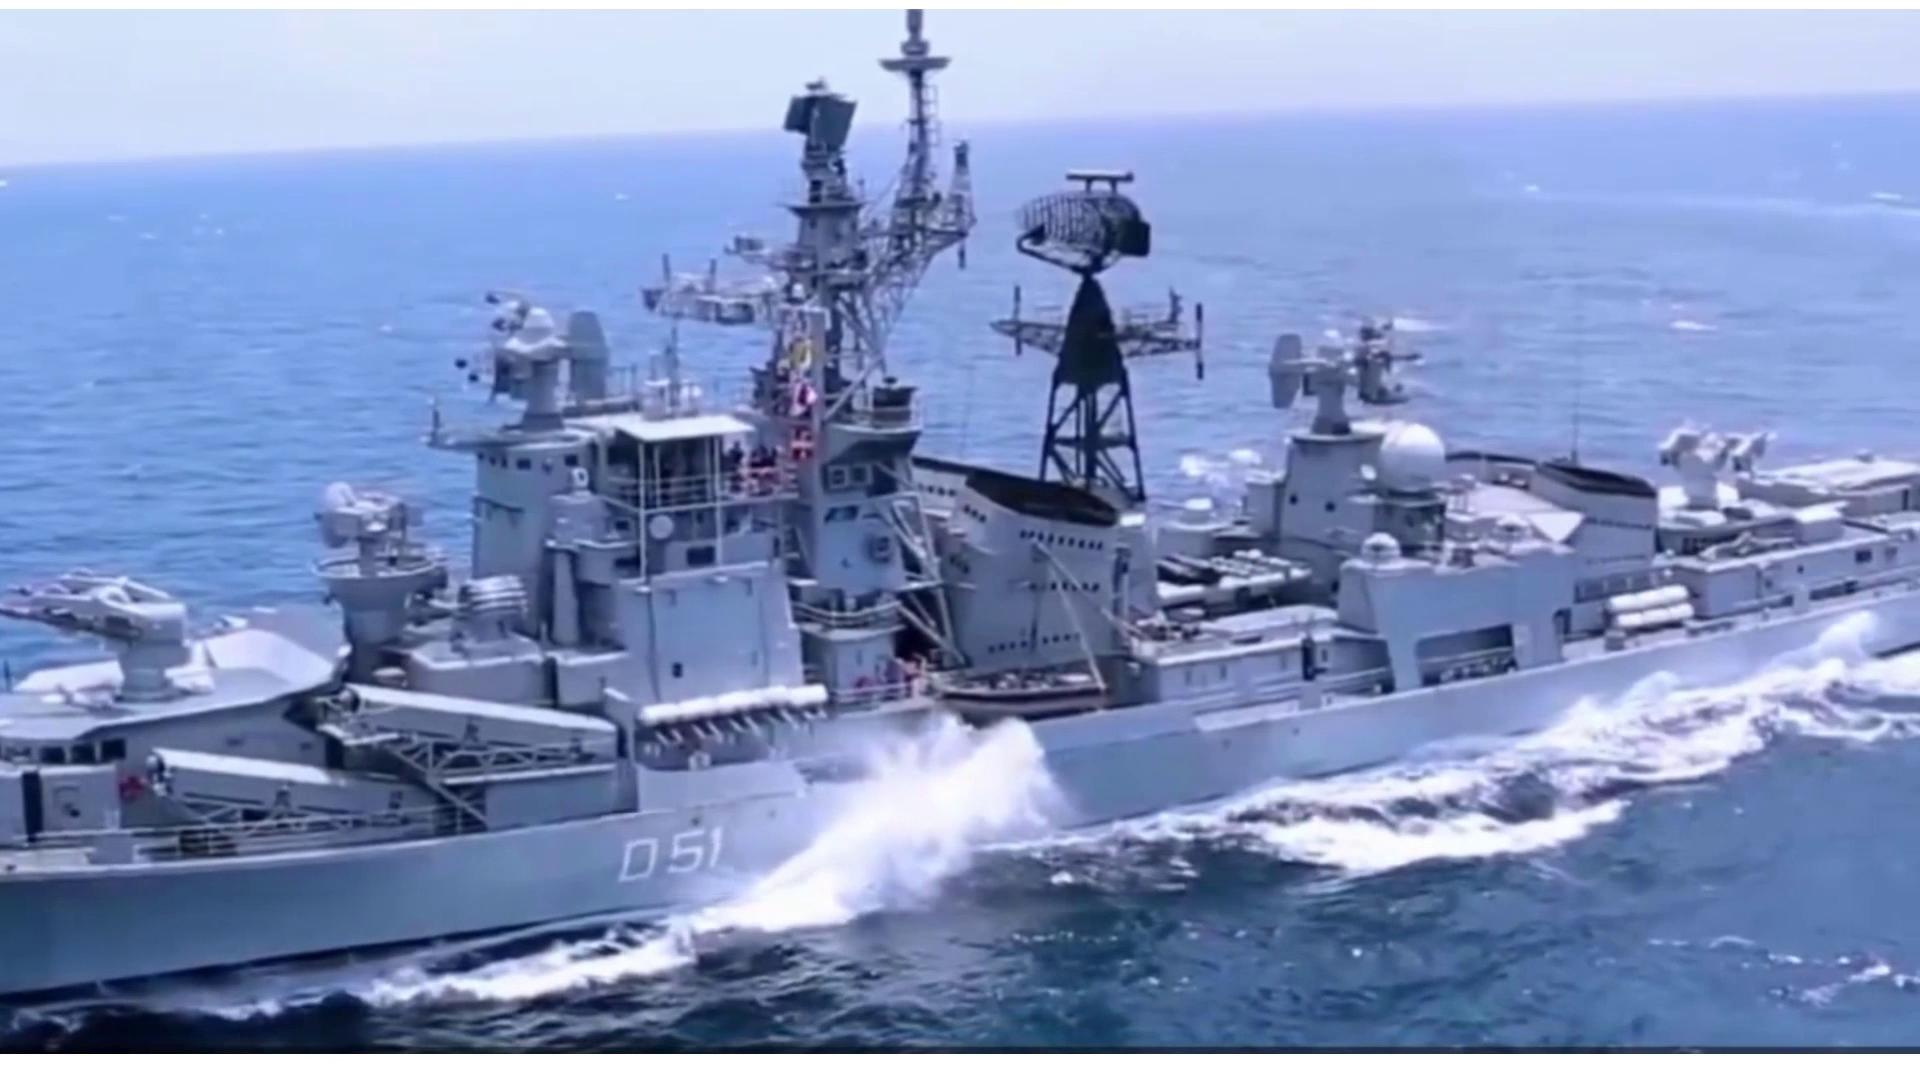OCR: (584, 813, 734, 899)
